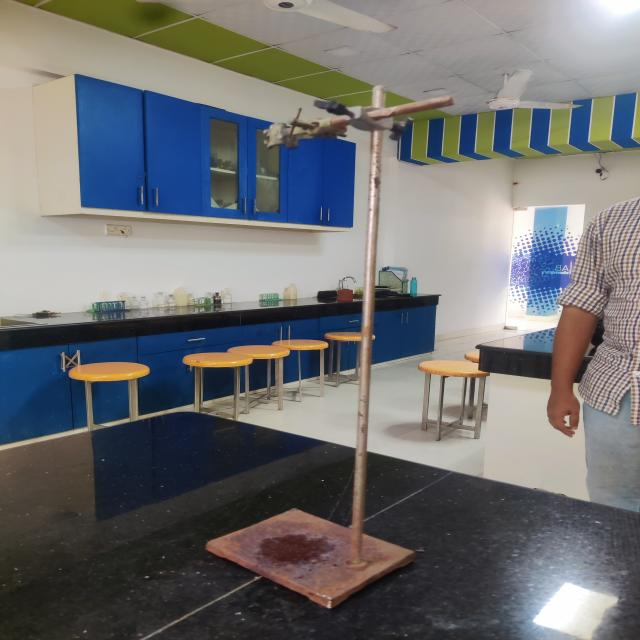Burette_Stands: (181, 74, 466, 624)
